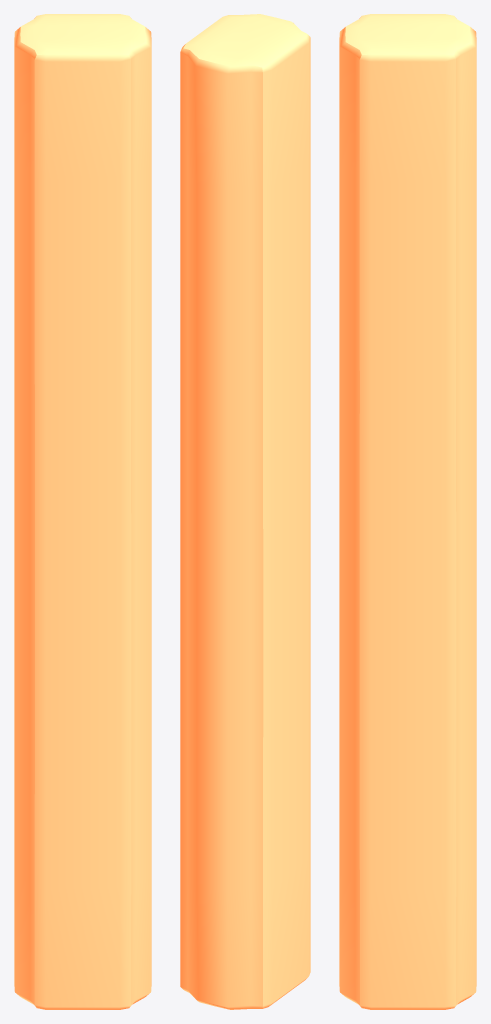
The model's file is SM_Trim_Walls01.fbx.
The picture shows the model from 3 angles, left to right: view 1: azimuth 90°, elevation 25°; view 2: azimuth 150°, elevation 25°; view 3: azimuth 270°, elevation 25°; orthographic projection.
Visible parts, largest first — view 1: SM_Trim_Walls01; view 2: SM_Trim_Walls01; view 3: SM_Trim_Walls01.
Boxes of the visible parts, x1,y1,x2,y2 form: SM_Trim_Walls01: (14,14,151,1009); SM_Trim_Walls01: (180,14,310,1009); SM_Trim_Walls01: (339,14,476,1009).
Bounding box in the file's own units: 25 × 32.42 × 250.
